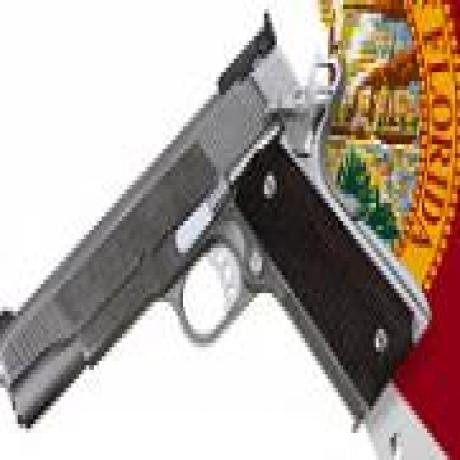weapon: (0, 0, 430, 451)
